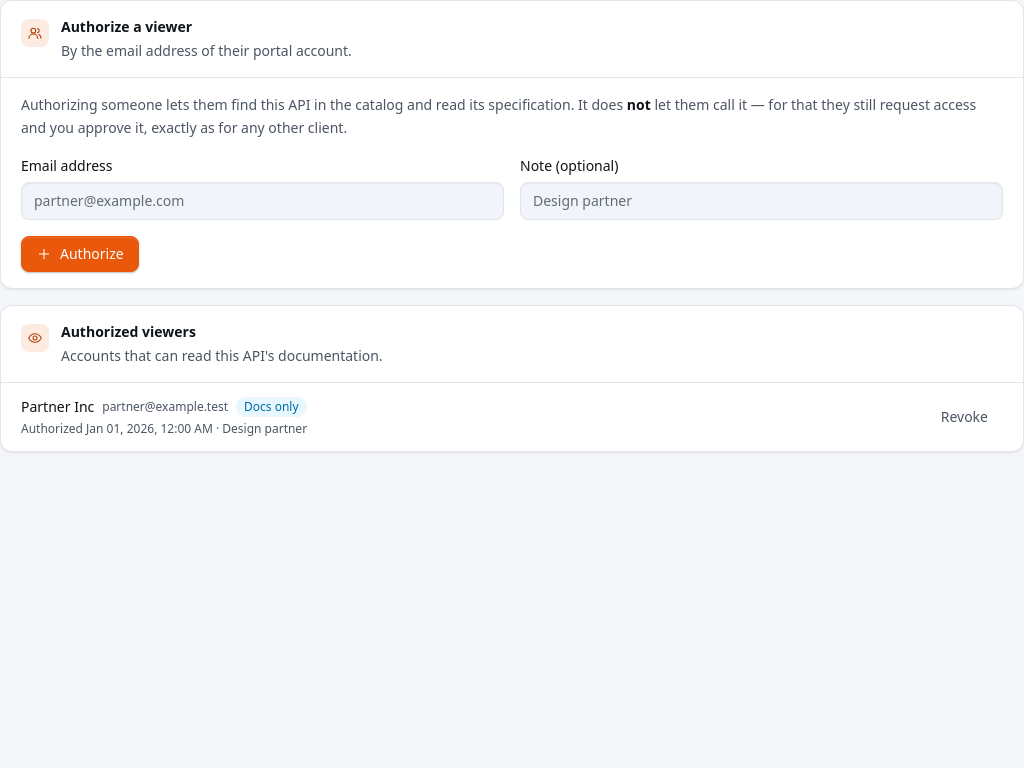
private API viewers › authorizes by email address
Expected: the text "Partner Inc" is shown, [21,396,94,416]
Type "  new-partner@example.test  " into the field labelled "Email address". click: (262, 200)
box: [21,182,504,220]
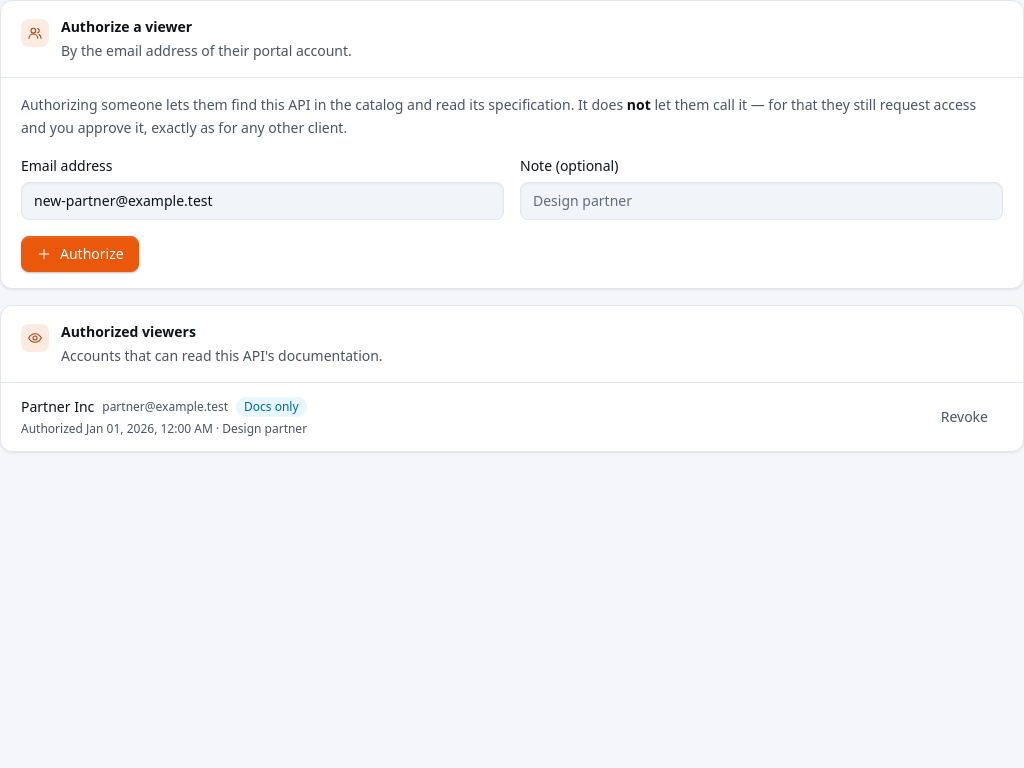
Type "Second partner" into the field labelled "Note (optional)". click: (762, 200)
box: [520,182,1003,220]
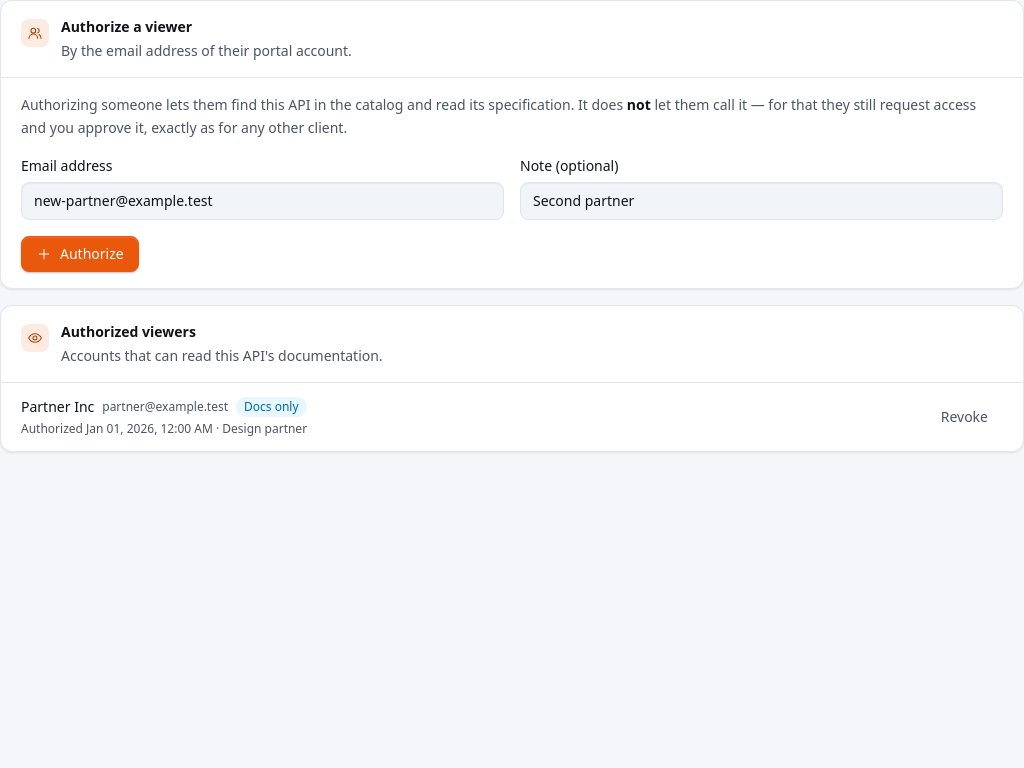
Click the button "Authorize". click: (80, 254)
box: [21,236,139,272]
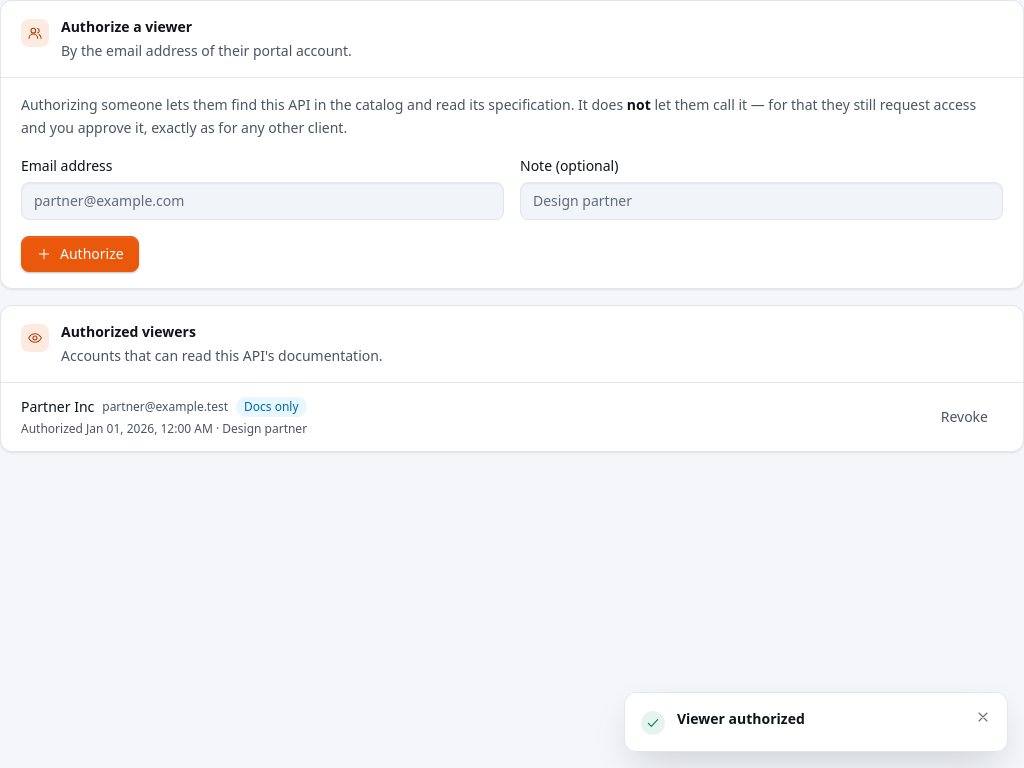
Expected: the text "Viewer authorized" is shown, [677,709,805,728]
